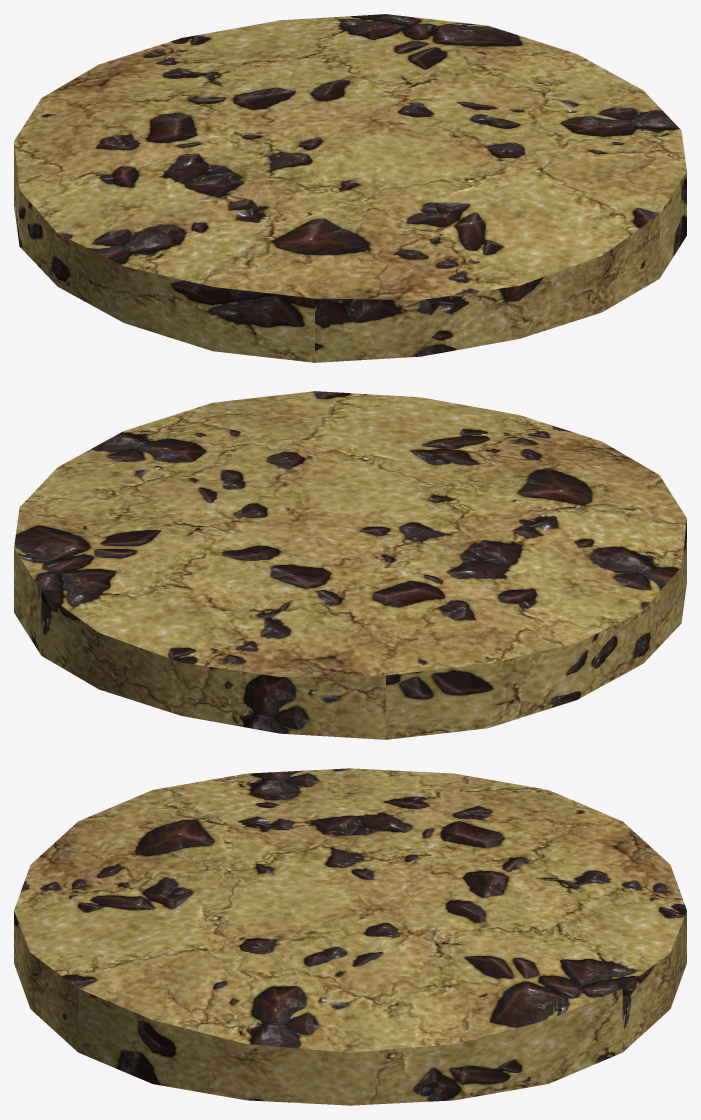
File: cookies.fbx
3 renders of one model, top to bottom at view 1: azimuth 30°, elevation 25°; view 2: azimuth 150°, elevation 25°; view 3: azimuth 270°, elevation 25°, orthographic.
Visible parts, largest first — view 1: pCylinder1; view 2: pCylinder1; view 3: pCylinder1.
Part boxes in pixels (box(x1,y1,x2,y2)): pCylinder1: box(14, 14, 686, 362); pCylinder1: box(14, 391, 686, 739); pCylinder1: box(14, 768, 686, 1105).
Bounding box in the file's own units: 5.37 × 0.851 × 5.37.
1 material, 1 textured.
